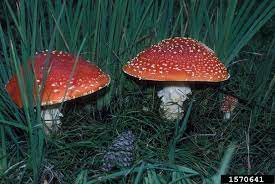Amanita muscaria: (109, 28, 238, 135), (8, 28, 106, 145)
